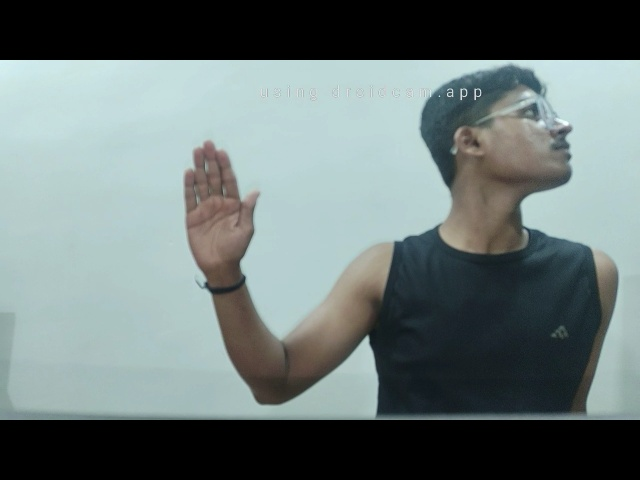Hello: (166, 130, 273, 275)
